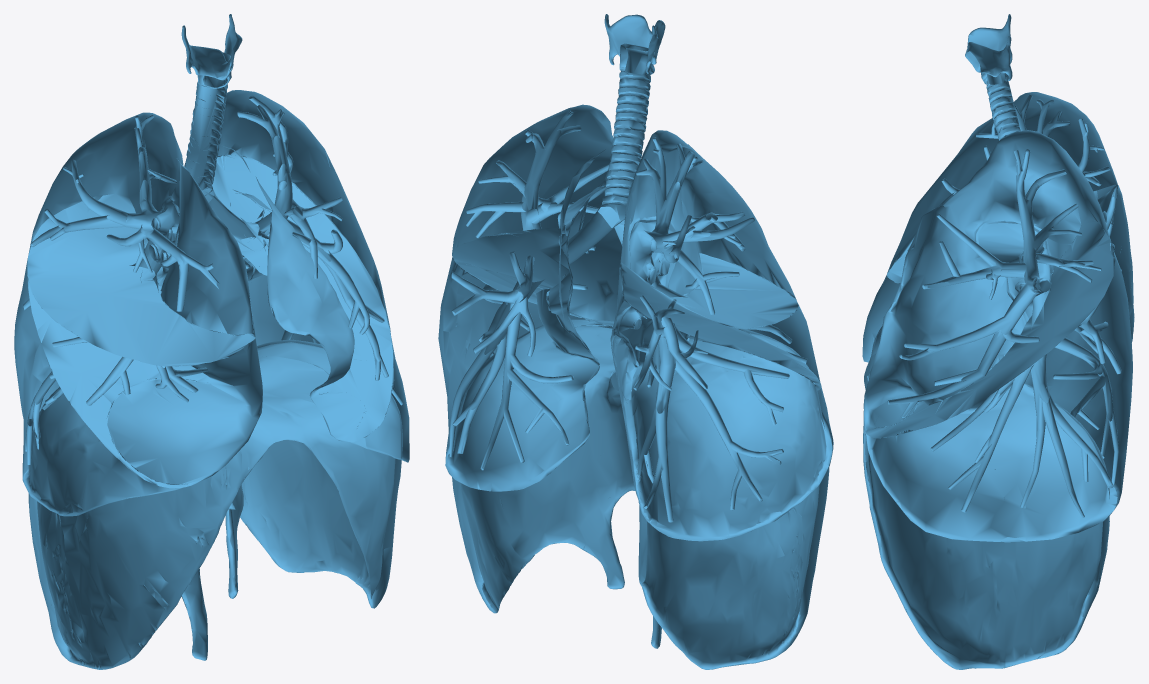
File: respiratorio.glb
The picture shows the model from 3 angles, left to right: view 1: azimuth 30°, elevation 25°; view 2: azimuth 150°, elevation 25°; view 3: azimuth 270°, elevation 25°; orthographic projection. The views are drawn at different scales.
Parts seen in each view (by area): view 1: pulmoes, diafragma, traqueia, laringe; view 2: pulmoes, diafragma, traqueia, laringe; view 3: pulmoes, diafragma, traqueia, laringe.
Part boxes in pixels (left/top/right/bottom): pulmoes: left=14, top=90, right=409, bottom=516; diafragma: left=28, top=339, right=402, bottom=669; traqueia: left=23, top=52, right=403, bottom=464; laringe: left=181, top=14, right=242, bottom=80; pulmoes: left=438, top=104, right=833, bottom=541; diafragma: left=452, top=320, right=829, bottom=669; traqueia: left=449, top=43, right=807, bottom=522; laringe: left=604, top=14, right=665, bottom=73; pulmoes: left=862, top=92, right=1134, bottom=542; diafragma: left=863, top=326, right=1109, bottom=669; traqueia: left=887, top=50, right=1121, bottom=517; laringe: left=965, top=14, right=1012, bottom=80.
Bounding box in the file's own units: 2.45 × 4.3 × 1.75.
